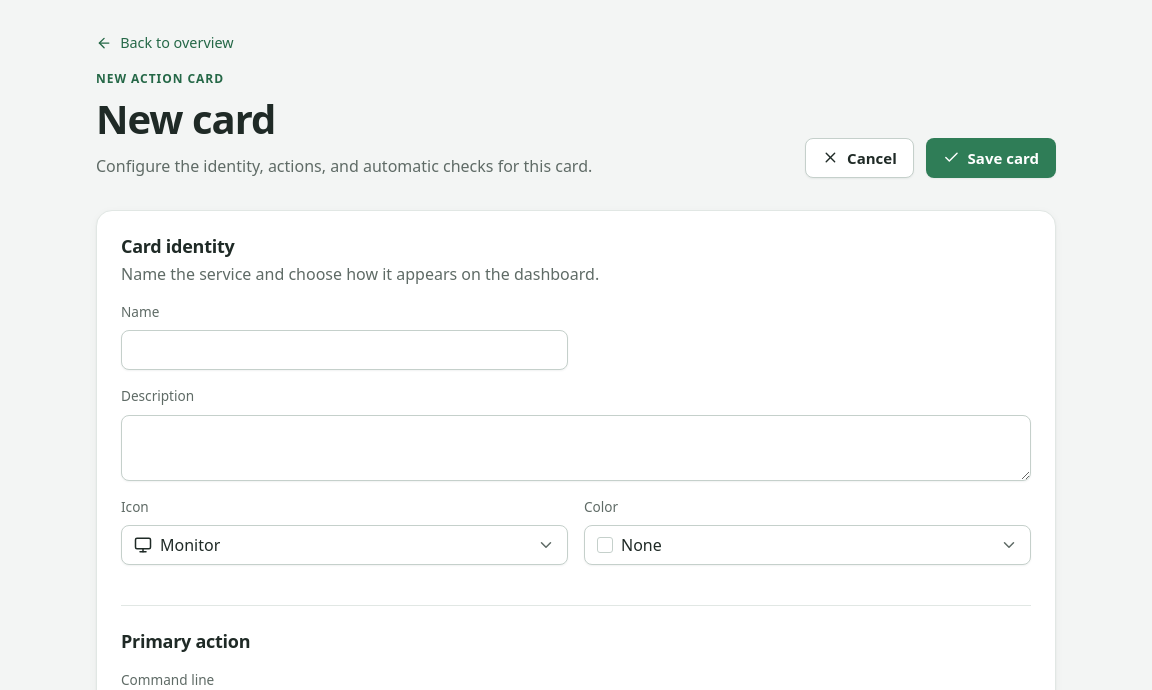
CardEditView › keeps a new card in the edit context after saving
The image size is (1152, 690).
Expected: the heading "New card" is shown, [96,91,275,146]
In the field labelled "Name": (344, 350) [121,330,568,370], type "Lamp"
(page scrolled)
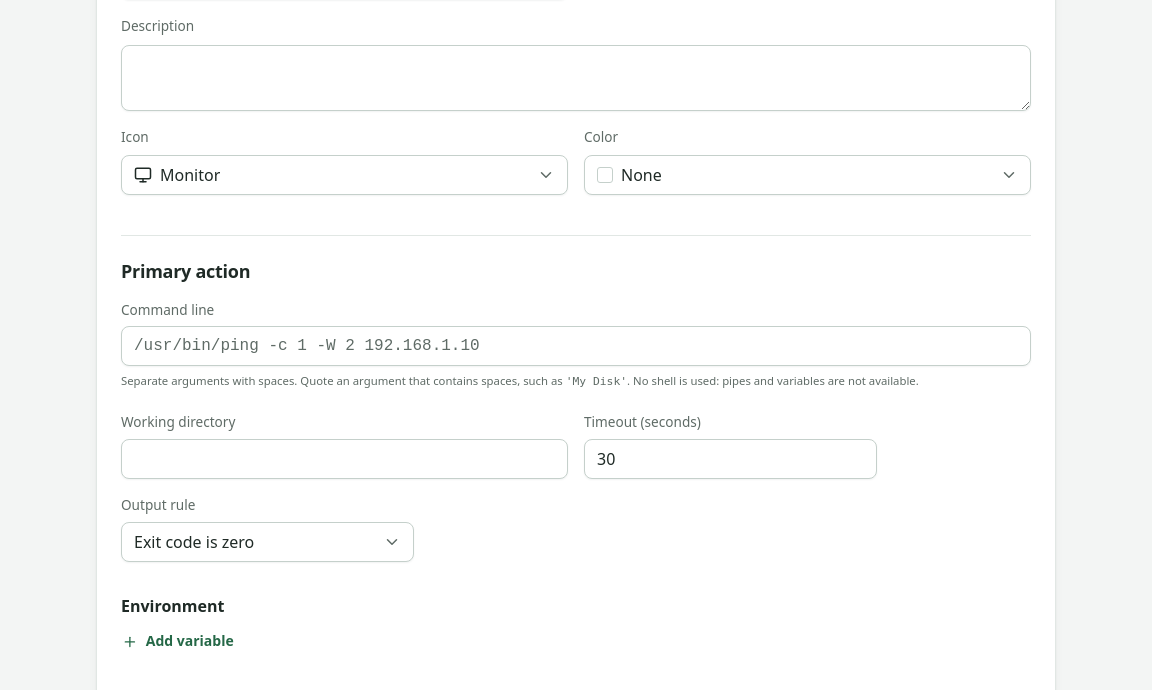
In the field with class "command-line": (576, 346) [121,326,1031,366], type "switch --on 'Living room'"
(page scrolled)
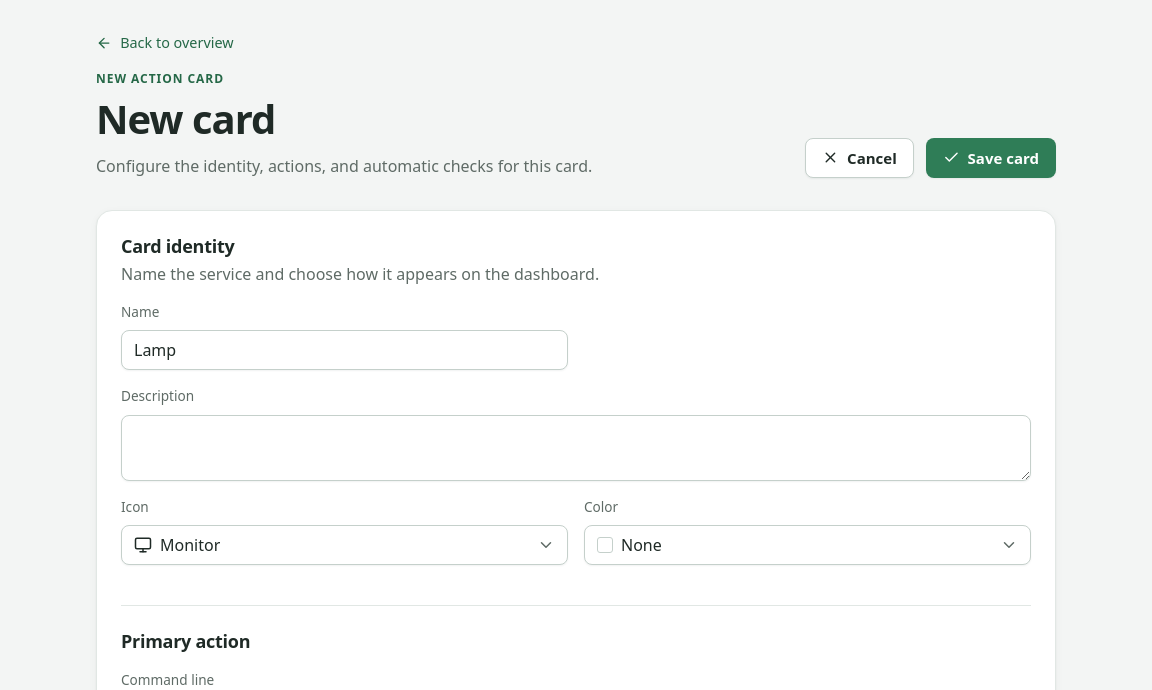
Click the button "Save card": (991, 158) [926,138,1056,178]
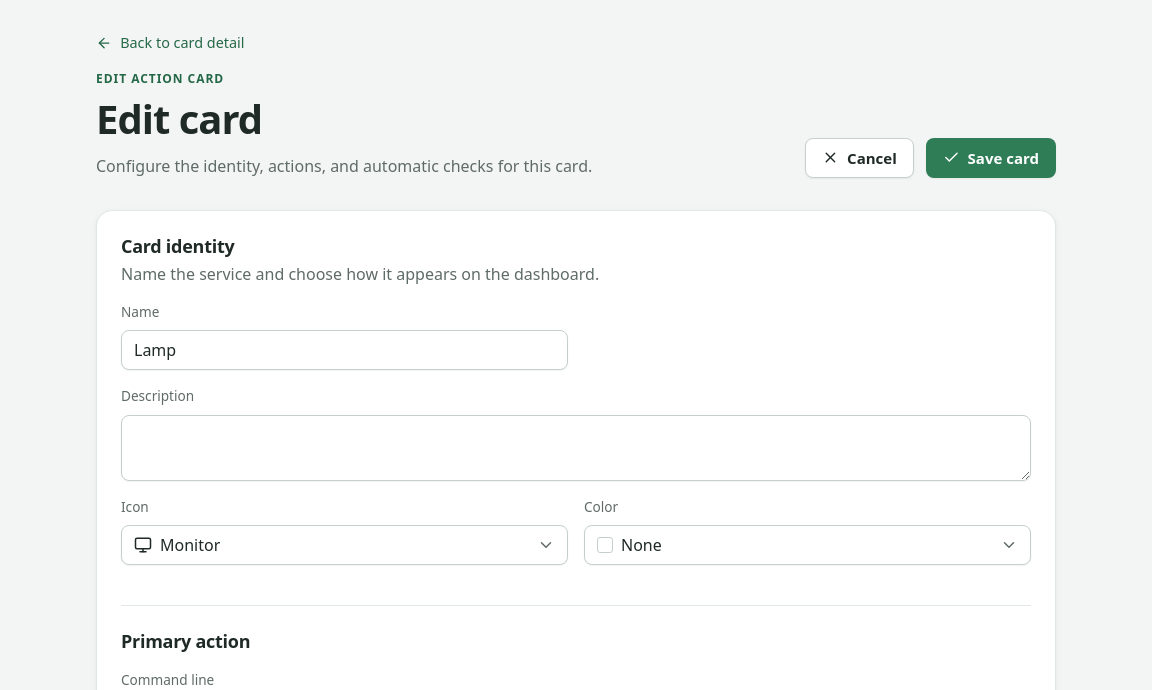
Now the heading "Edit card" is shown, box [96,91,262,146]
